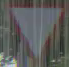Give way: (3, 3, 62, 54)
